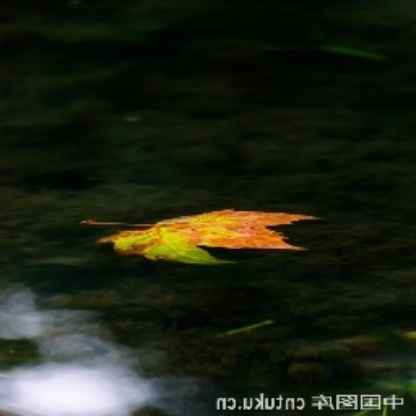leaf: (80, 202, 324, 267)
